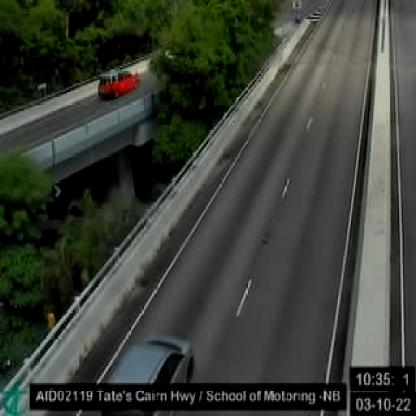Car: (94, 333, 192, 411), (98, 68, 139, 97)
